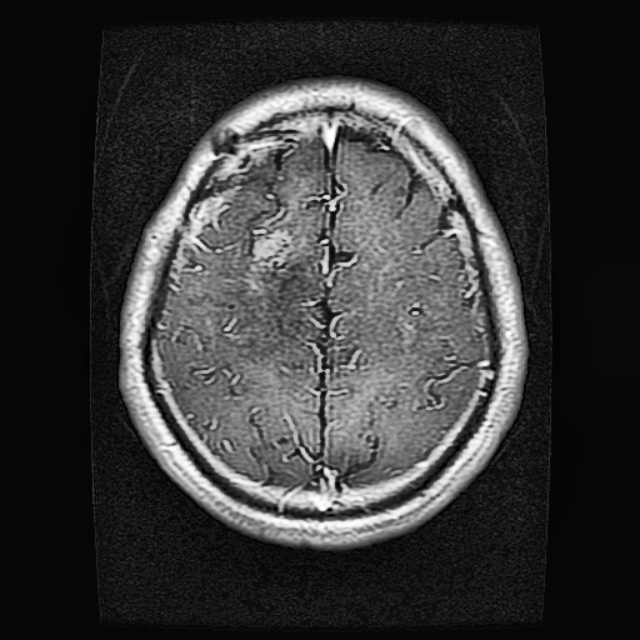Glioma: (250, 225, 294, 269)
